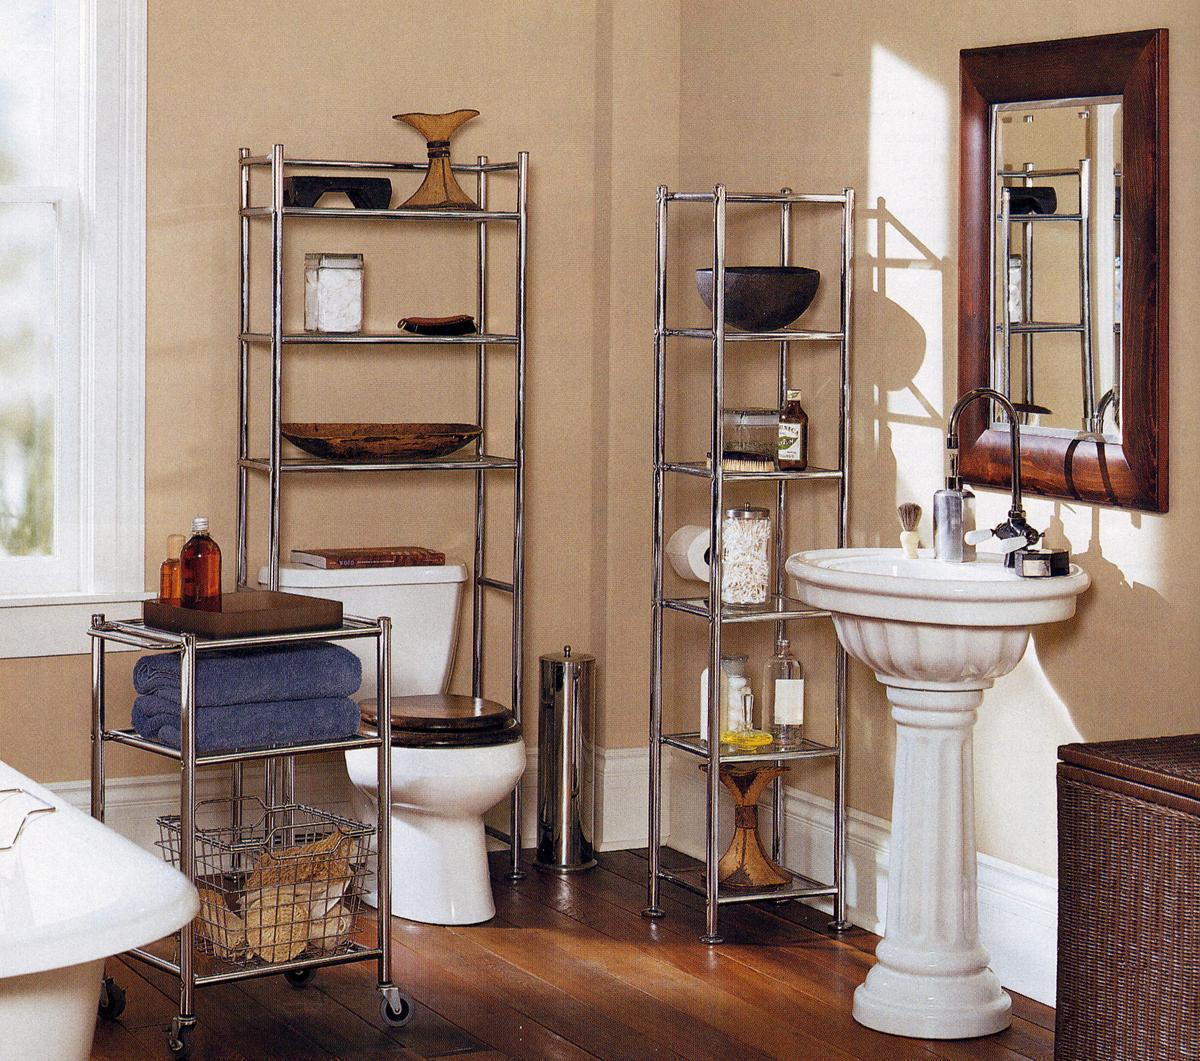Lavamanos: (755, 376, 1116, 702)
Sanitario: (327, 539, 524, 937)
